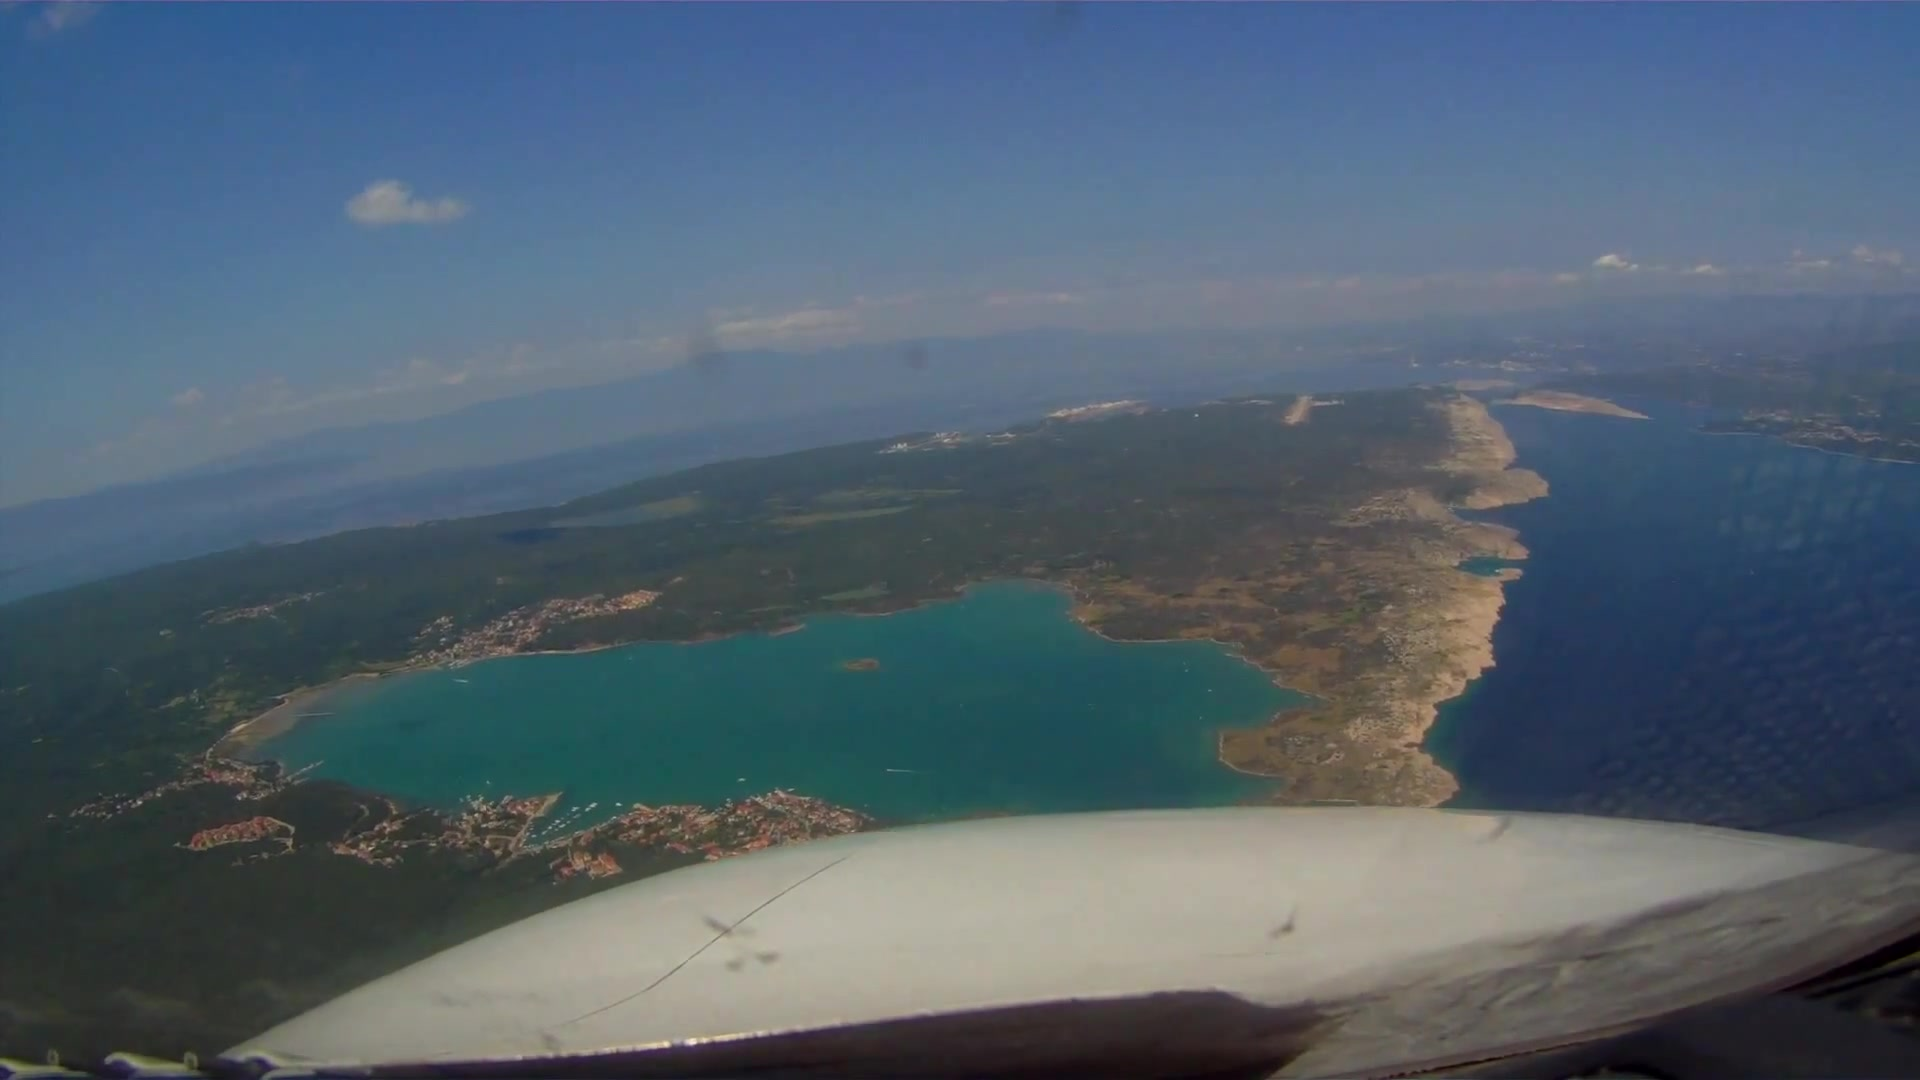runway: (1284, 394, 1315, 427)
